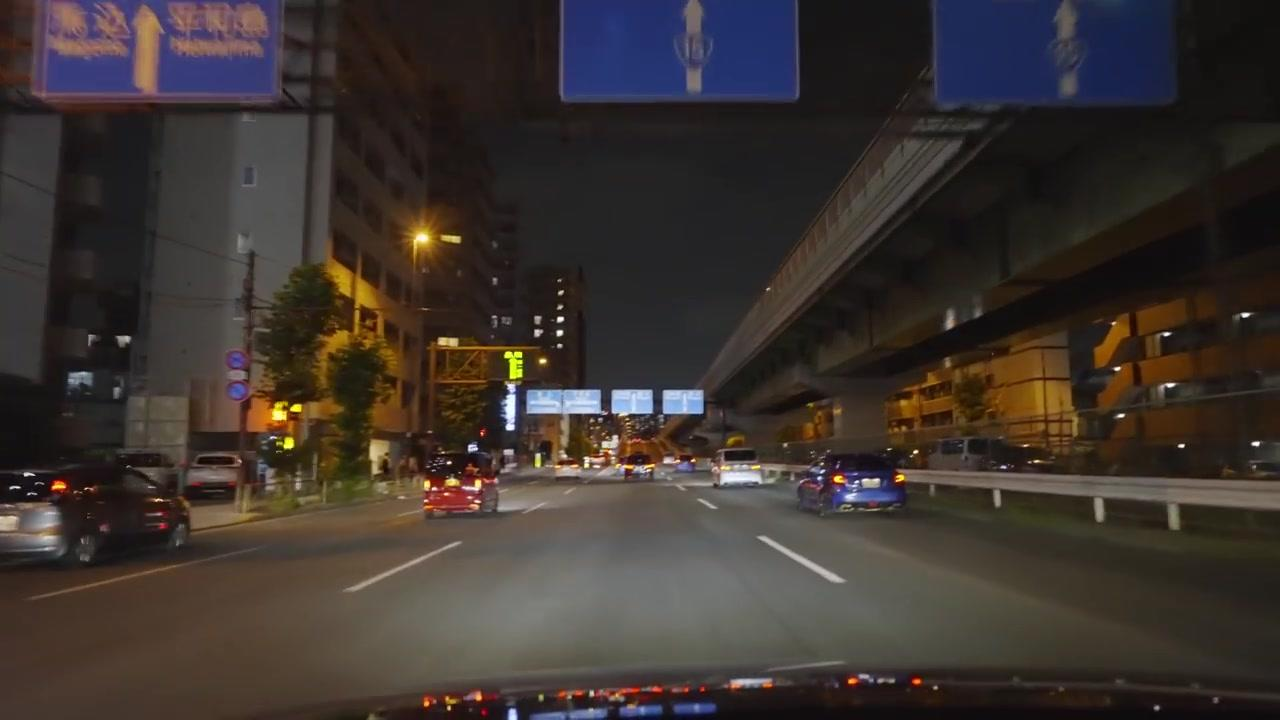car: (0, 462, 192, 568), (795, 451, 910, 517), (125, 449, 247, 496), (423, 451, 500, 520), (960, 436, 1057, 472), (114, 448, 179, 495), (185, 453, 247, 501), (1225, 440, 1280, 480), (712, 447, 763, 488), (628, 462, 655, 480), (674, 459, 696, 475)
traffic light: (224, 348, 250, 402), (478, 424, 488, 440)
truck: (421, 449, 501, 520)
